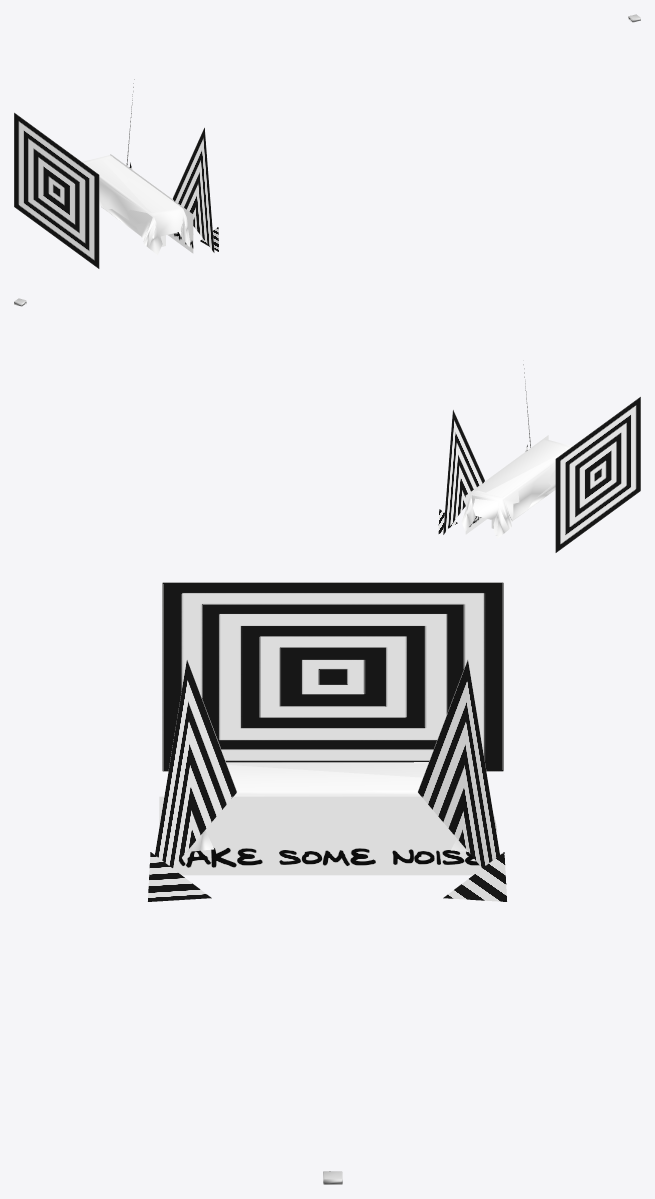
3 renders of one model, top to bottom at view 1: azimuth 30°, elevation 25°; view 2: azimuth 150°, elevation 25°; view 3: azimuth 270°, elevation 25°, orthographic. The views are drawn at different scales.
Visible parts, largest first — view 1: proj_scene_1, table6, proj_scene_6_triangles, proj_scene_6_avant; view 2: proj_scene_1, table6, proj_scene_6_triangles, proj_scene_6_avant; view 3: proj_scene_1, proj_scene_6_avant, proj_scene_6_triangles, table6, proj_scene_6_triangles.001.
Boxes of the visible parts, <box> form: proj_scene_1: <box>14,112,99,268</box>; table6: <box>82,155,193,254</box>; proj_scene_6_triangles: <box>126,79,214,252</box>; proj_scene_6_avant: <box>110,154,193,253</box>; proj_scene_1: <box>555,396,640,552</box>; table6: <box>461,439,572,538</box>; proj_scene_6_triangles: <box>443,364,530,534</box>; proj_scene_6_avant: <box>465,435,548,534</box>; proj_scene_1: <box>162,582,503,771</box>; proj_scene_6_avant: <box>159,796,490,875</box>; proj_scene_6_triangles: <box>155,659,499,867</box>; table6: <box>186,762,497,852</box>; proj_scene_6_triangles.001: <box>148,852,506,901</box>.
Bounding box in the file's own units: 4.26 × 0.8362 × 1.14.
4 materials, 4 textured.
